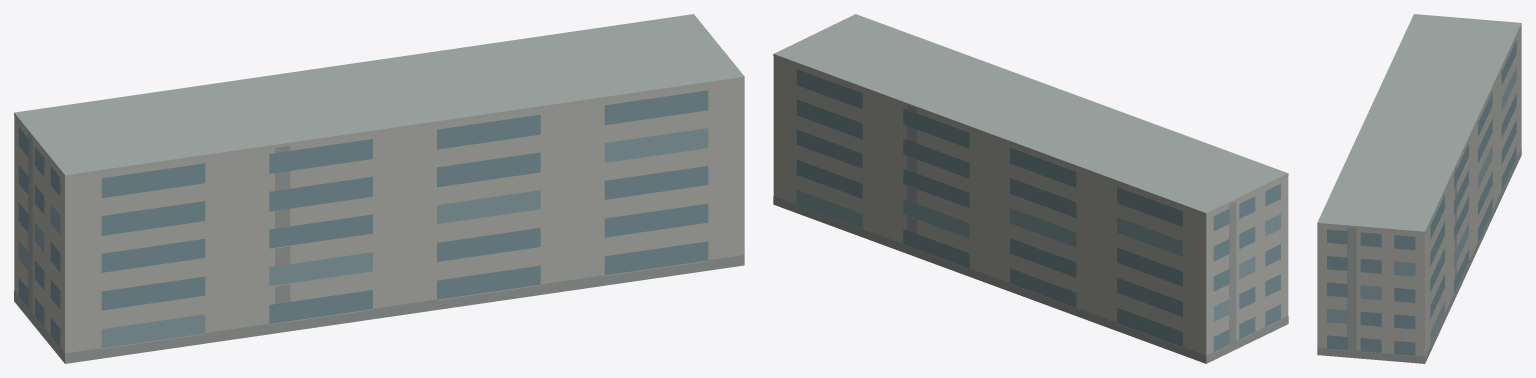
File: residential-36294322-55de-4442-be2f-744aa0582353.glb
3 renders of one model, left to right at view 1: azimuth 30°, elevation 25°; view 2: azimuth 150°, elevation 25°; view 3: azimuth 270°, elevation 25°, orthographic. The views are drawn at different scales.
Parts seen in each view (by area): view 1: residential-36294322-55de-4442-be2f-744aa0582353.tmp; view 2: residential-36294322-55de-4442-be2f-744aa0582353.tmp; view 3: residential-36294322-55de-4442-be2f-744aa0582353.tmp.
Boxes of the visible parts, x1,y1,x2,y2 form: residential-36294322-55de-4442-be2f-744aa0582353.tmp: [14, 14, 744, 363]; residential-36294322-55de-4442-be2f-744aa0582353.tmp: [773, 14, 1288, 363]; residential-36294322-55de-4442-be2f-744aa0582353.tmp: [1317, 14, 1521, 363].
Size of the model in its own units: 53.86 by 15.25 by 21.37.
